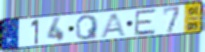1: (30, 18, 40, 45)
4: (45, 15, 67, 44)
7: (162, 5, 181, 35)
A: (99, 12, 129, 39)
E: (133, 8, 158, 37)
Q: (75, 14, 100, 42)
